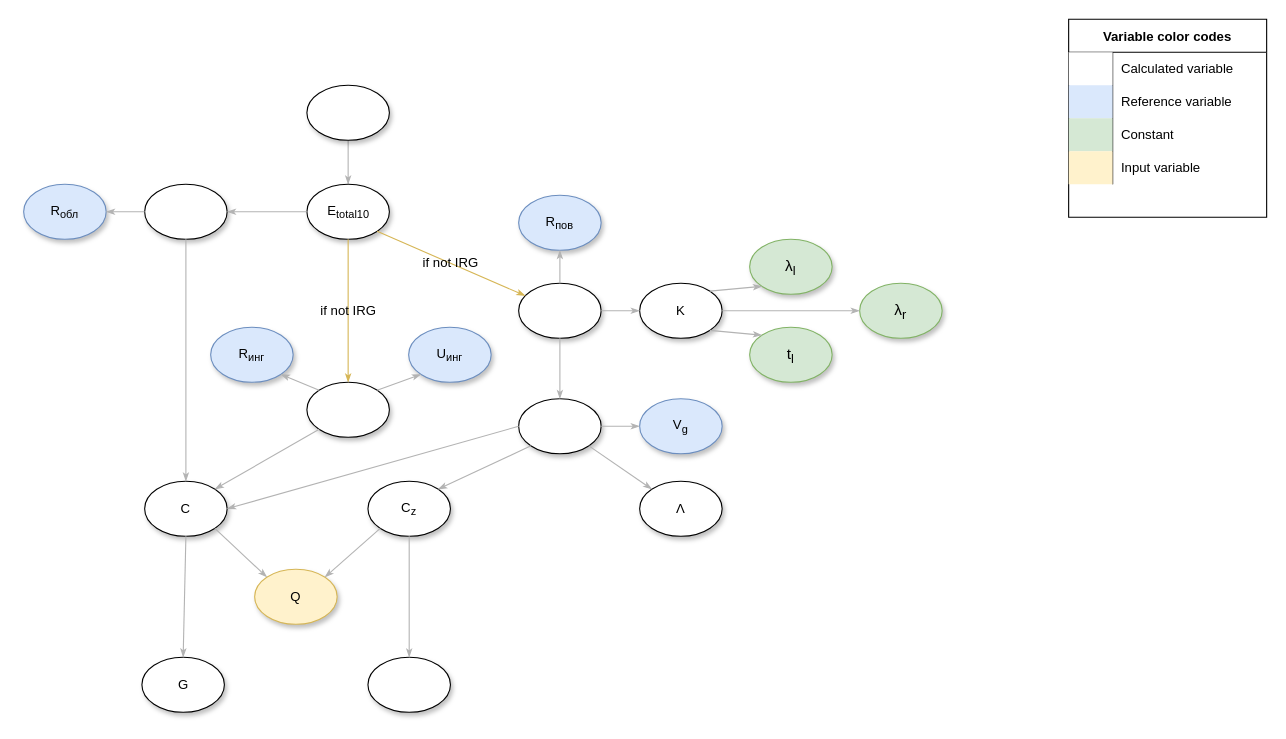
The diagram is 1286 pixels wide and 739 high, and some of its shapes have lost their labels. The centre of each missing label's shape, as x and y in pixels:
E max10: the point at 348,114
E инг: the point at 348,411
E обл: the point at 186,213
E пов: the point at 560,312
G z: the point at 409,686
Сl: the point at 560,427
